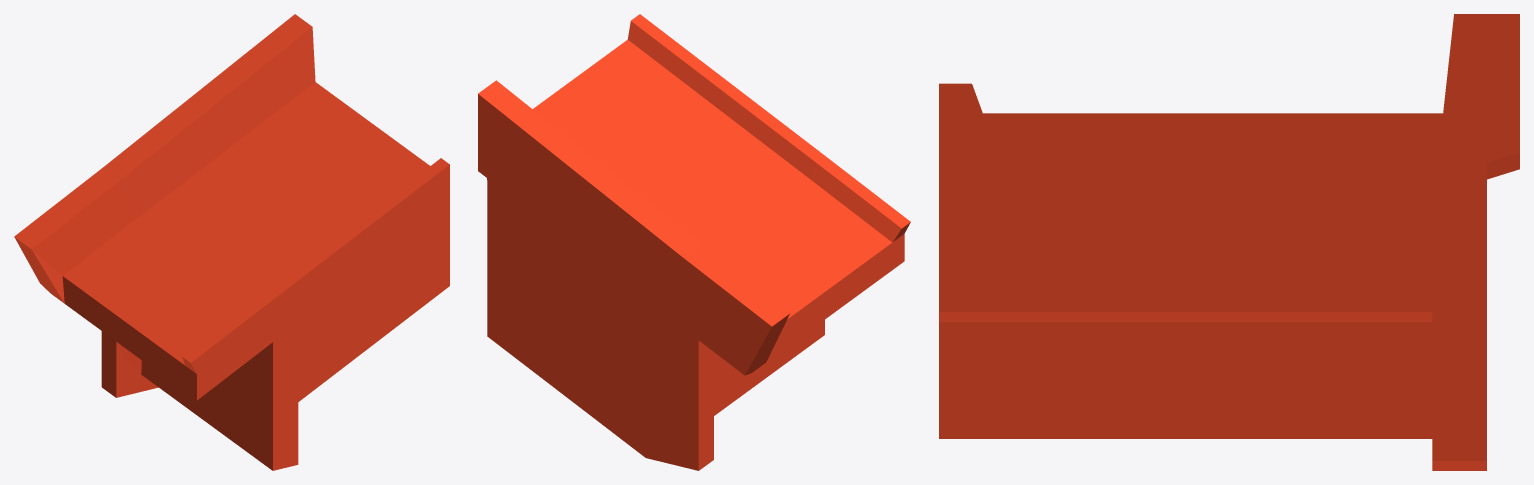
Rendered from roof-metal-moderate-edge-front.fbx.
3 renders of one model, left to right at view 1: azimuth 30°, elevation 25°; view 2: azimuth 150°, elevation 25°; view 3: azimuth 270°, elevation 25°, orthographic. The views are drawn at different scales.
Visible parts, largest first — view 1: roof-metal-moderate-edge-front; view 2: roof-metal-moderate-edge-front; view 3: roof-metal-moderate-edge-front.
Boxes of the visible parts, bbox=[...] form: roof-metal-moderate-edge-front: bbox=[14, 14, 449, 470]; roof-metal-moderate-edge-front: bbox=[478, 14, 910, 470]; roof-metal-moderate-edge-front: bbox=[939, 14, 1519, 470].
Size of the model in its own units: 0.5555 by 0.5999 by 0.5301.
